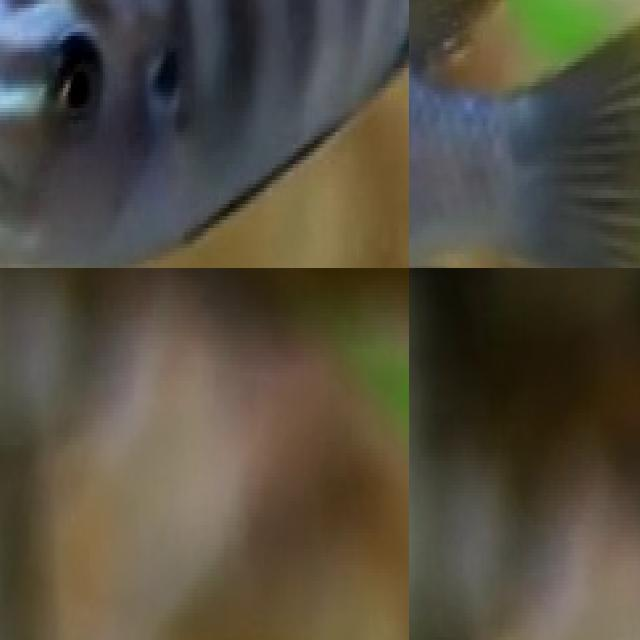fish: (0, 0, 409, 268), (0, 268, 409, 369)
